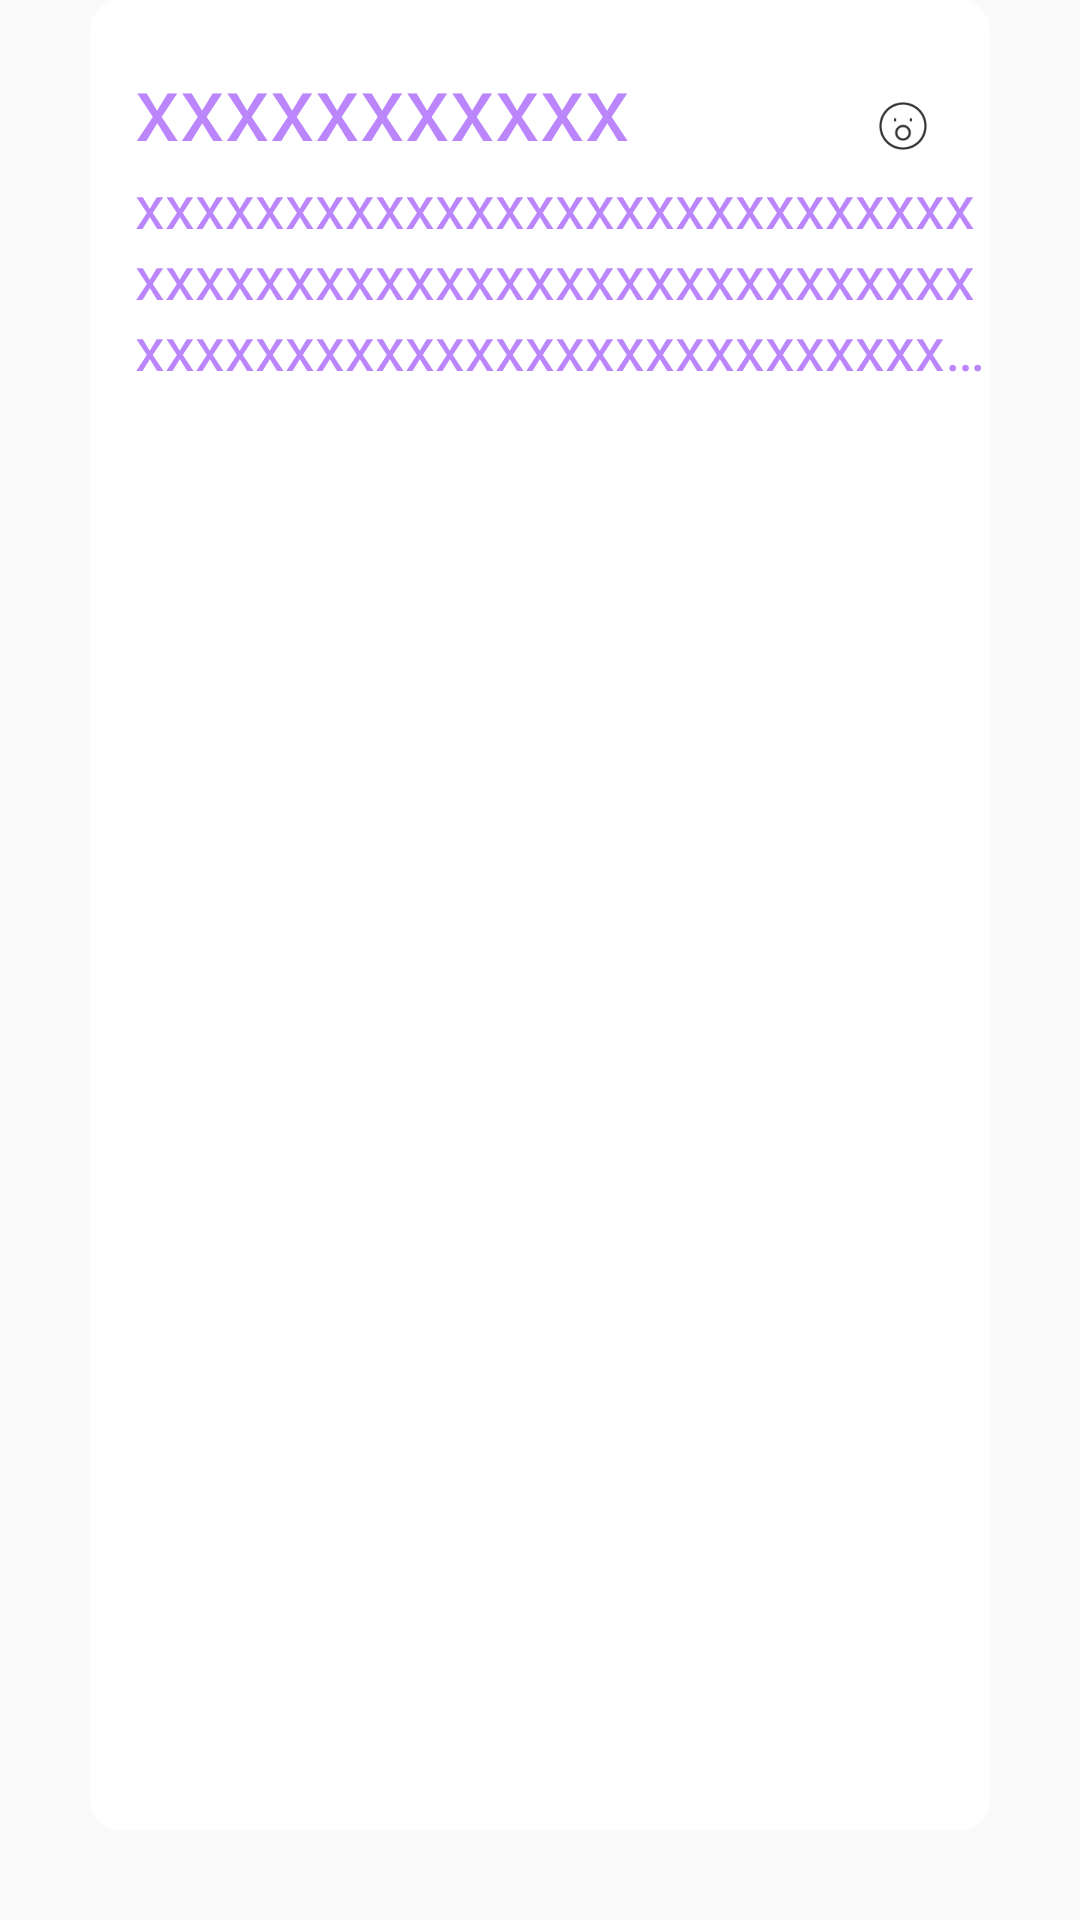

Where icons sit on this 1080w x 1920h app screen, as rect(x1, y1, x2, y2):
mood amazed: rect(879, 102, 927, 150)
